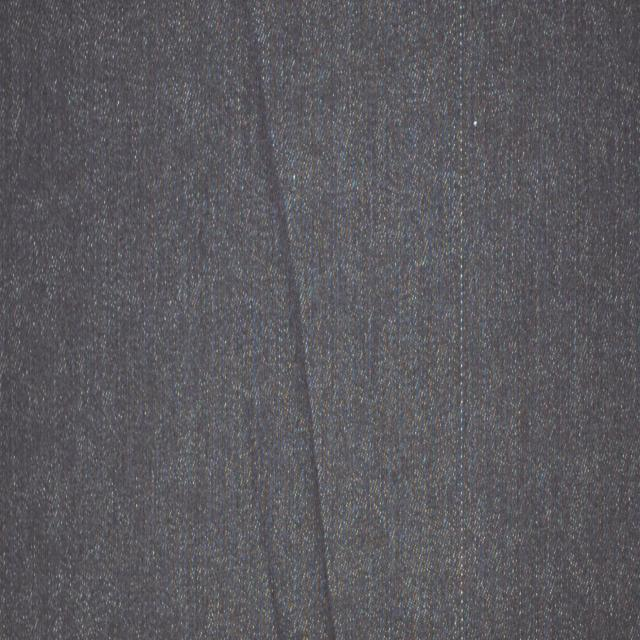Line: (237, 1, 335, 640), (247, 407, 289, 640)
